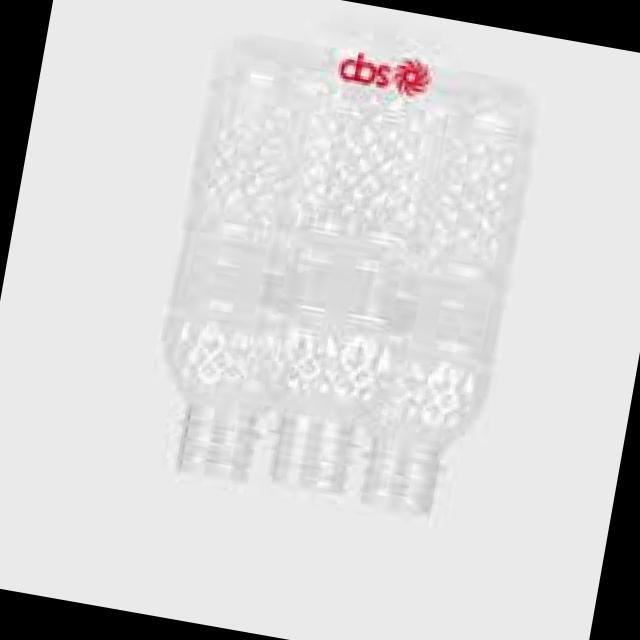good: (112, 35, 330, 493), (236, 52, 432, 504), (348, 79, 530, 533)
